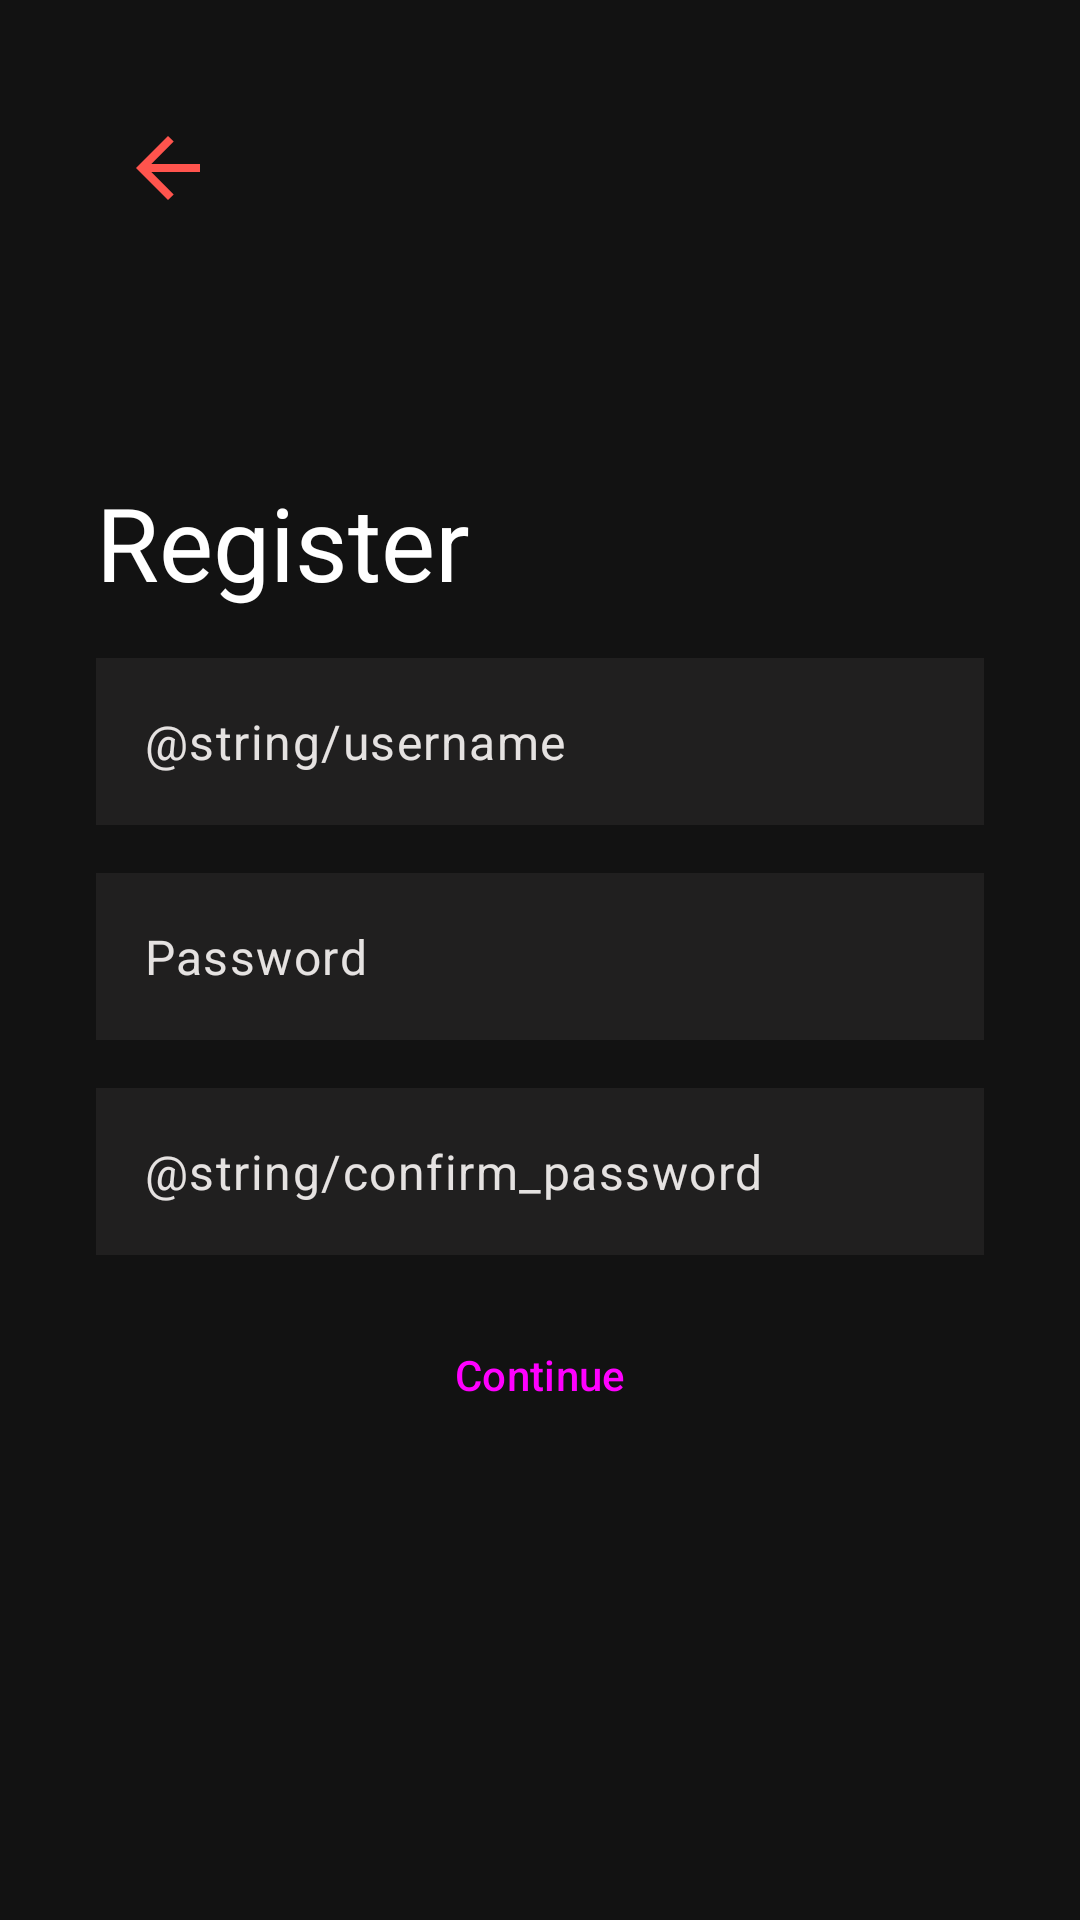

Screen size 1080*1920. Icon name, then its center in pixels as (x,y):
Back: (168,168)
